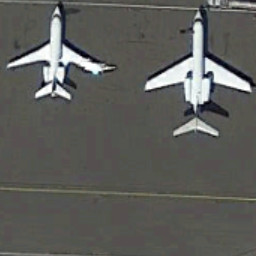Airplane: (141, 6, 253, 144), (6, 3, 112, 110)
